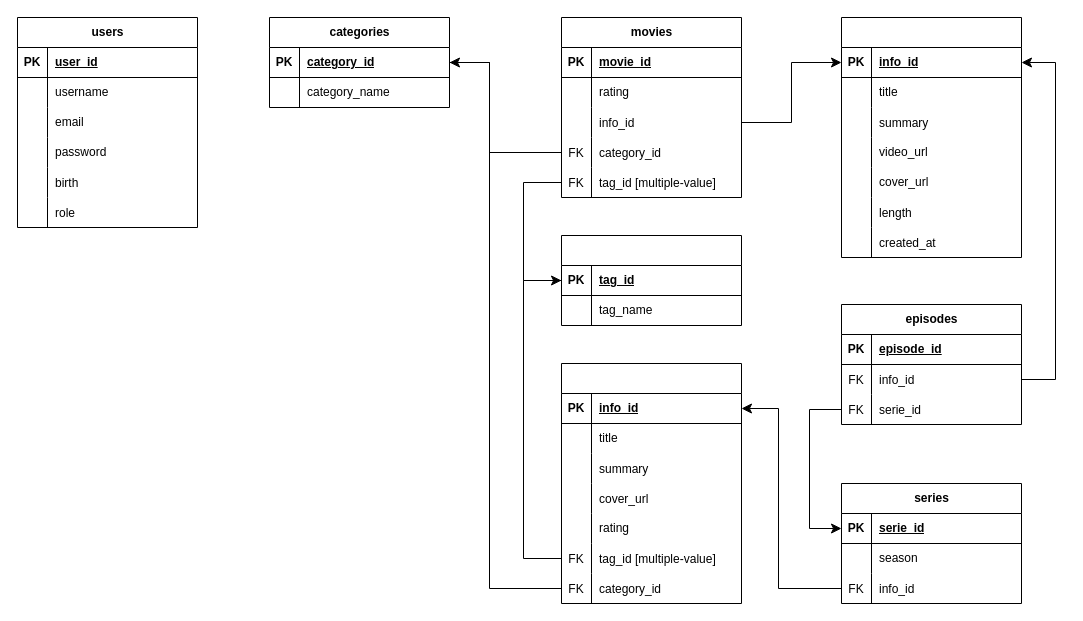
This 1083x621 diagram has some shape labels left out. The box of each missing label's shape, as (x1, y1, x2, y2) in pixels:
series_info: (560, 362, 742, 604)
tags: (560, 234, 742, 326)
videos_info: (840, 16, 1022, 258)
